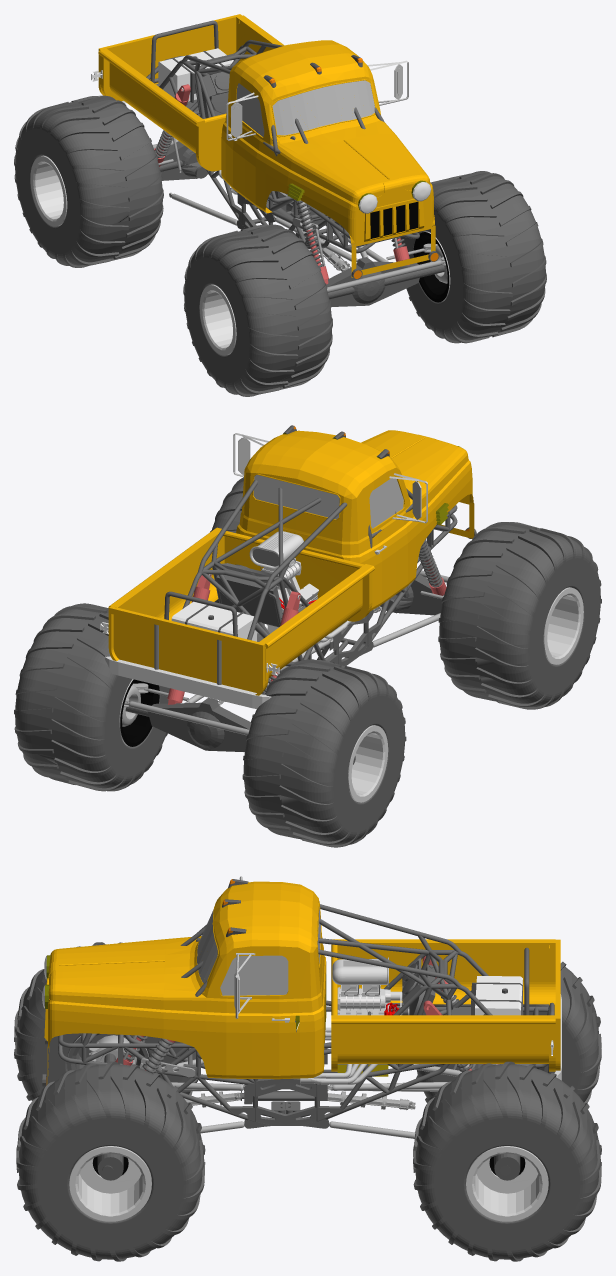
The model's file is monster_truck.glb.
The picture shows the model from 3 angles, top to bottom: view 1: azimuth 30°, elevation 25°; view 2: azimuth 150°, elevation 25°; view 3: azimuth 270°, elevation 25°; orthographic projection. The views are drawn at different scales.
Visible parts, largest first — view 1: Truck:polySurface3482, Truck:Suspension:Tire_1_1, Truck:Suspension:Tire_1_4, Tire_1_3, Truck:Chassis:Chassis, Truck:TrunkBed:Mesh01, Truck:polySurface17, Truck:TrunkBed:Mesh07, Truck:Suspension:Mesh02, Truck:Mesh03, Truck:polySurface1, Truck:polySurface3481 (+6 smaller); view 2: Truck:Suspension:Tire_1_4, Truck:Suspension:Tire_1_1, Truck:polySurface3482, Truck:Suspension:Tire_1_3, Truck:TrunkBed:Mesh01, Truck:Chassis:Chassis, Truck:TrunkBed:Mesh07, Truck:polySurface1, Truck:TrunkBed:mesh000005, Truck:polySurface21, Truck:Mesh03, Truck:Suspension:Mesh02 (+7 smaller); view 3: Truck:polySurface3482, Truck:Suspension:Tire_1_3, Tire_1_3, Truck:TrunkBed:Mesh01, Truck:Chassis:Chassis, Truck:Suspension:Tire_1_4, Truck:Suspension:Tire_1_1, Truck:polySurface14, Truck:Mesh03, Truck:Chassis:Engine1:polySurface1_Truck:Chassis:Engine1:_si, Truck:Chassis:Engine1:polySurface1_Truck:Chassis:Engine1:_Co, Truck:polySurface17 (+5 smaller).
Boxes of the visible parts, x1,y1,x2,y2 form: Truck:polySurface3482: (221, 40, 435, 277); Truck:Suspension:Tire_1_1: (14, 95, 163, 267); Truck:Suspension:Tire_1_4: (183, 224, 332, 396); Tire_1_3: (400, 171, 546, 343); Truck:Chassis:Chassis: (146, 20, 419, 253); Truck:TrunkBed:Mesh01: (98, 15, 284, 171); Truck:polySurface17: (272, 80, 374, 135); Truck:TrunkBed:Mesh07: (98, 14, 241, 95); Truck:Suspension:Mesh02: (326, 257, 419, 306); Truck:Mesh03: (158, 48, 233, 102); Truck:polySurface1: (161, 141, 215, 180); Truck:polySurface3481: (370, 201, 417, 238); Truck:Suspension:Tire_1_4: (438, 522, 601, 709); Truck:Suspension:Tire_1_1: (242, 659, 406, 847); Truck:polySurface3482: (236, 430, 474, 610); Truck:Suspension:Tire_1_3: (14, 603, 169, 791); Truck:TrunkBed:Mesh01: (108, 527, 374, 690); Truck:Chassis:Chassis: (164, 480, 457, 666); Truck:TrunkBed:Mesh07: (108, 606, 265, 695); Truck:polySurface1: (147, 697, 251, 752); Truck:TrunkBed:mesh000005: (104, 656, 271, 708); Truck:polySurface21: (253, 475, 339, 519); Truck:Mesh03: (171, 601, 256, 641); Truck:Suspension:Mesh02: (380, 574, 444, 615); Truck:polySurface3482: (44, 881, 326, 1083); Truck:Suspension:Tire_1_3: (413, 1061, 601, 1261); Tire_1_3: (16, 1061, 205, 1261); Truck:TrunkBed:Mesh01: (331, 939, 555, 1071); Truck:Chassis:Chassis: (58, 904, 554, 1128); Truck:Suspension:Tire_1_4: (14, 942, 198, 1100); Truck:Suspension:Tire_1_1: (416, 961, 601, 1103); Truck:polySurface14: (220, 955, 288, 995); Truck:Mesh03: (471, 976, 522, 1015); Truck:Chassis:Engine1:polySurface1_Truck:Chassis:Engine1:_si: (332, 957, 402, 1015); Truck:Chassis:Engine1:polySurface1_Truck:Chassis:Engine1:_Co: (300, 1002, 386, 1085); Truck:polySurface17: (197, 909, 217, 982).
Size of the model in its own units: 0.1822 by 0.1118 by 0.2055.
